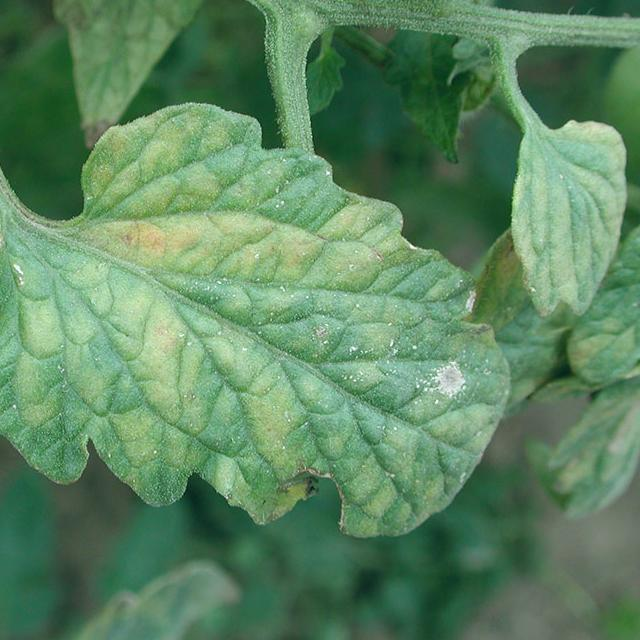Tomato mold leaf: (0, 103, 525, 562), (501, 118, 621, 342)
